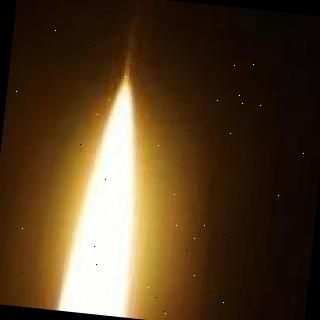fire: (46, 69, 156, 318)
